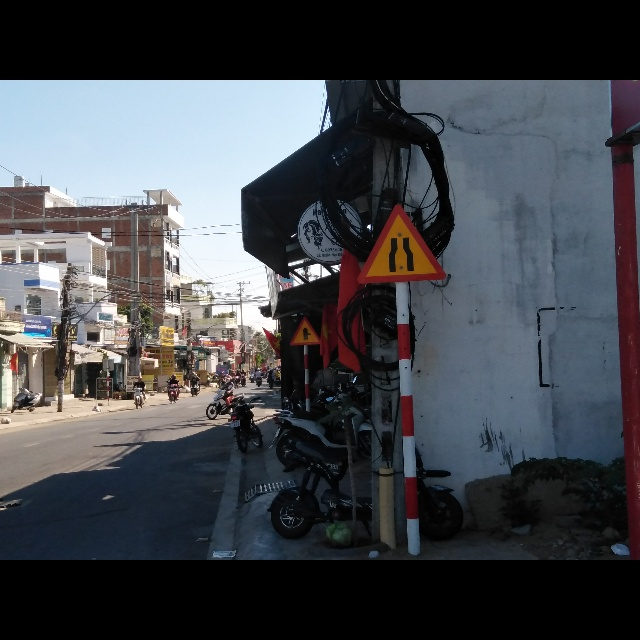Giao nhau với đường không ưu tiên: (287, 318, 323, 347)
Đường bị hẹp cả hai bên: (356, 206, 449, 287)
